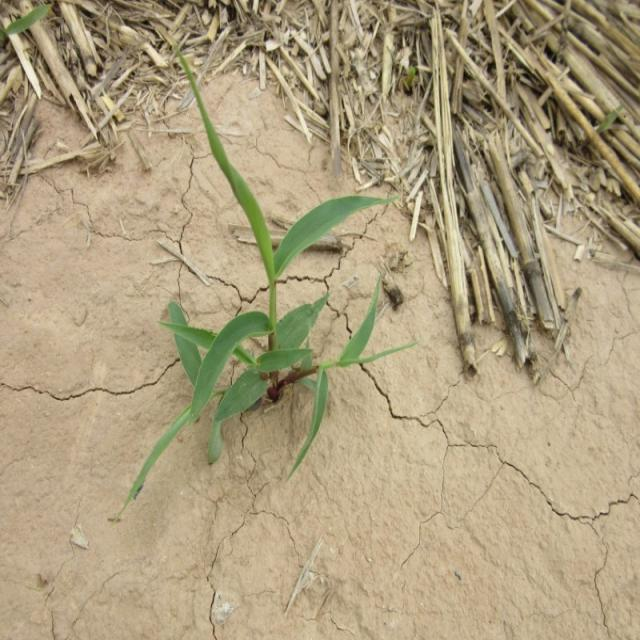bg: (125, 36, 425, 506)
